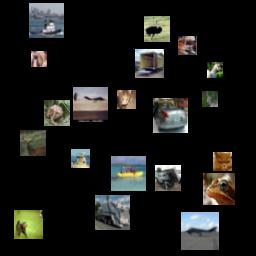airplane: (181, 212, 219, 250), (73, 87, 108, 122)
automobile: (153, 98, 188, 133)
bird: (144, 16, 170, 42)
cat: (14, 210, 43, 239), (117, 90, 136, 109), (213, 152, 232, 171)
deer: (20, 130, 46, 156), (202, 91, 218, 107)
dog: (178, 36, 197, 55), (31, 51, 47, 67)
frog: (203, 173, 235, 205), (44, 100, 70, 126)
ship: (111, 156, 146, 191), (29, 3, 64, 38), (71, 149, 90, 168)
truck: (95, 195, 130, 230), (135, 49, 164, 78), (155, 165, 181, 191)
